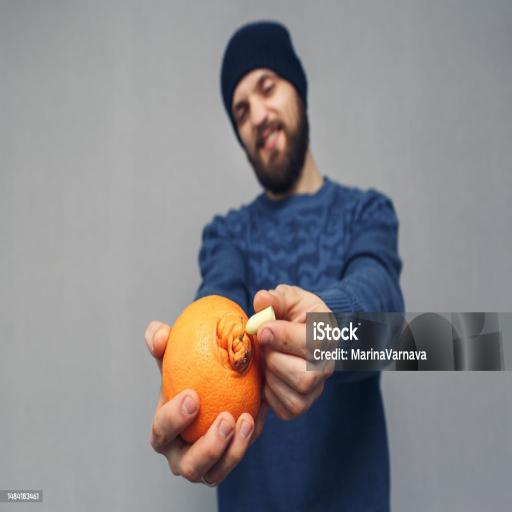orange: (162, 296, 262, 442)
